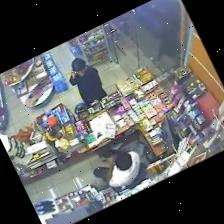person: (70, 58, 106, 105), (110, 150, 141, 188)
